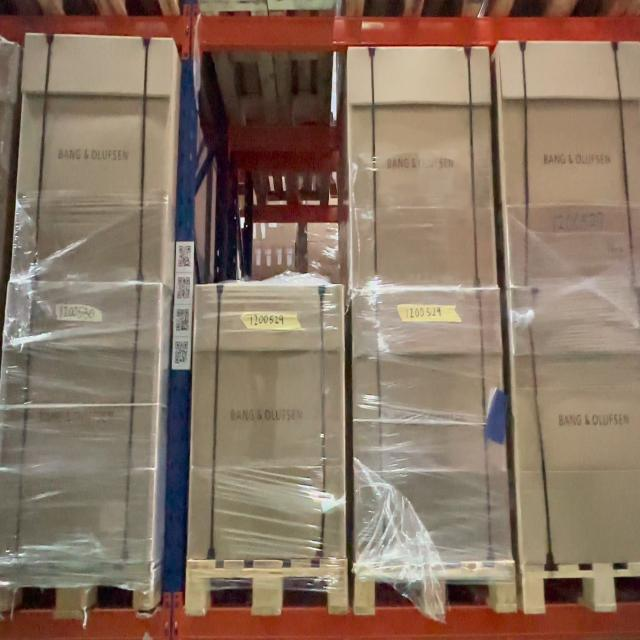box: (351, 288, 513, 566), (186, 283, 346, 561), (12, 33, 177, 282), (347, 46, 498, 289)
